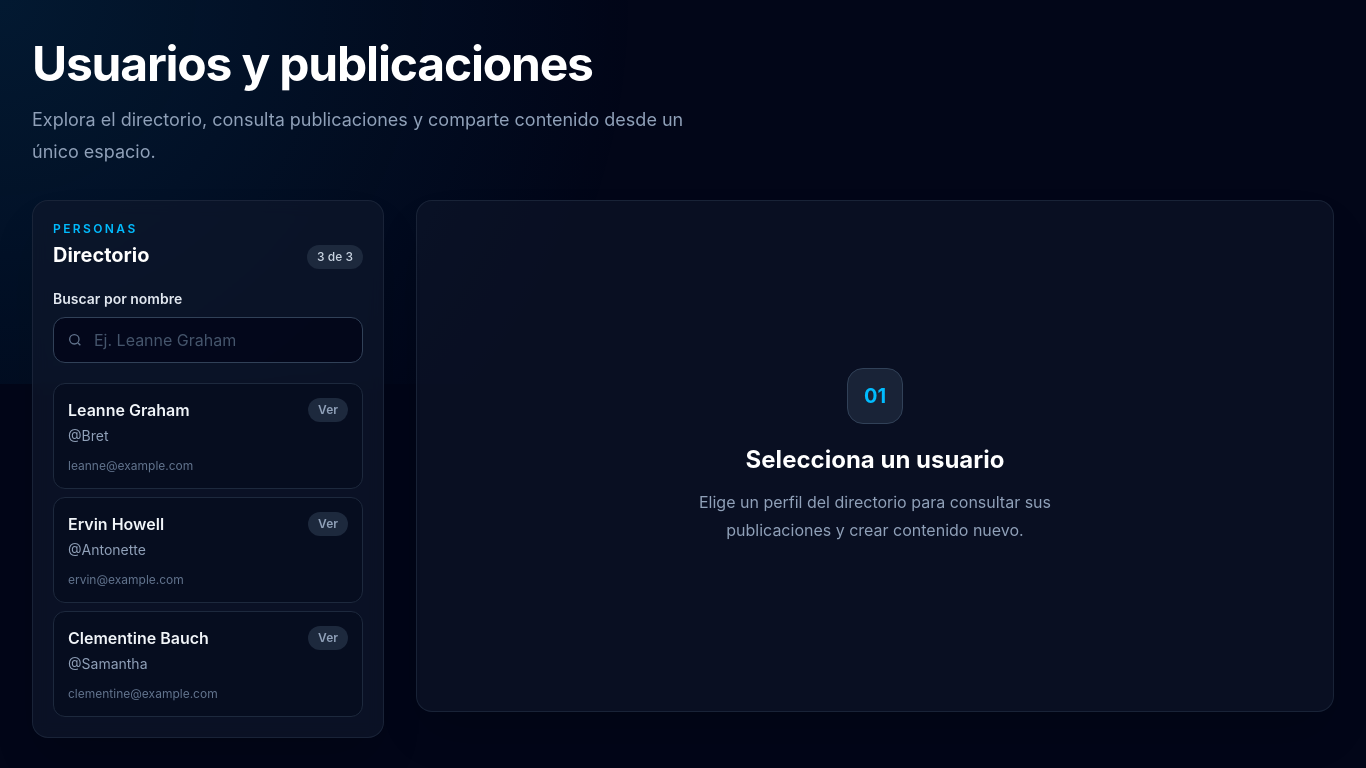
Test case: interacciones de usuarios y publicaciones › añade una publicación creada y limpia el formulario
Click the button "Leanne Graham @Bret Ver": (129,410) [68,398,348,446]
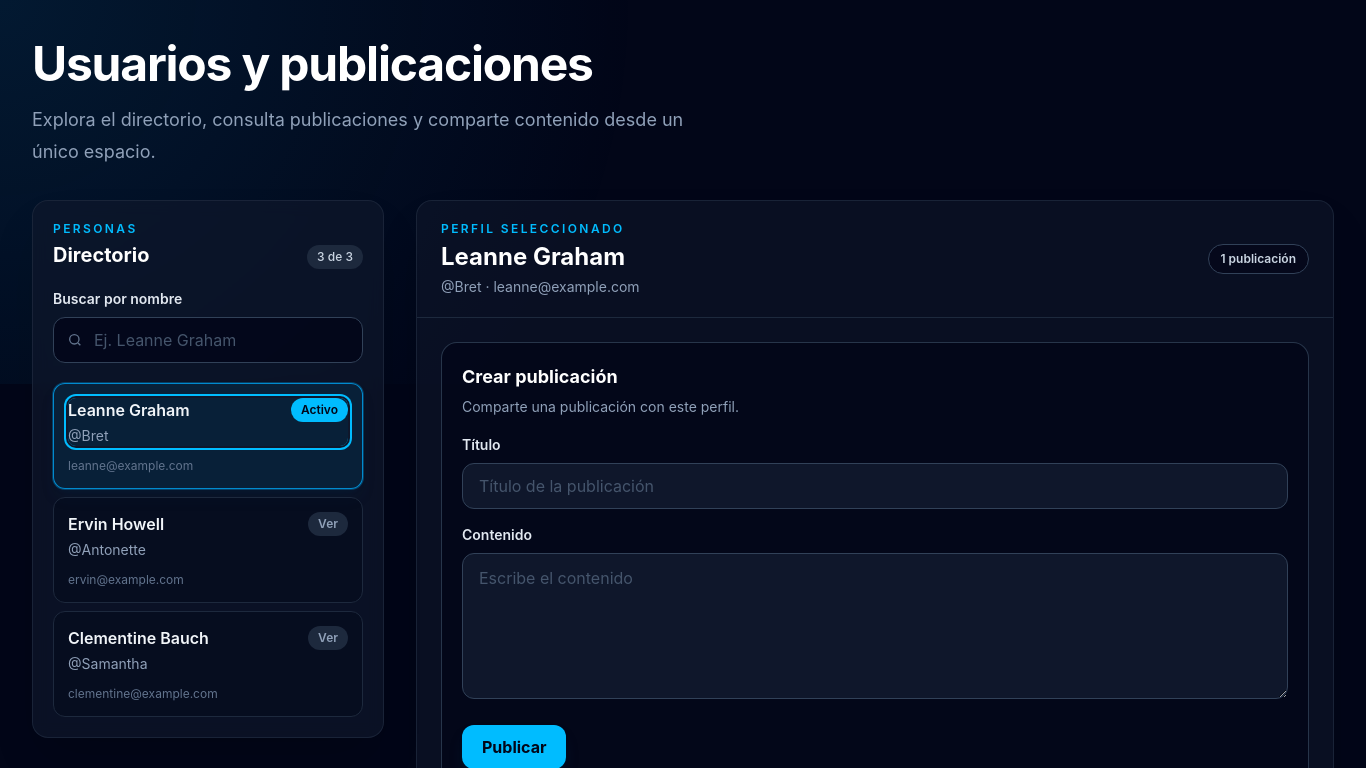
In the field labelled "Título": (875,486) [462,463,1288,509], type "Nueva publicación local"
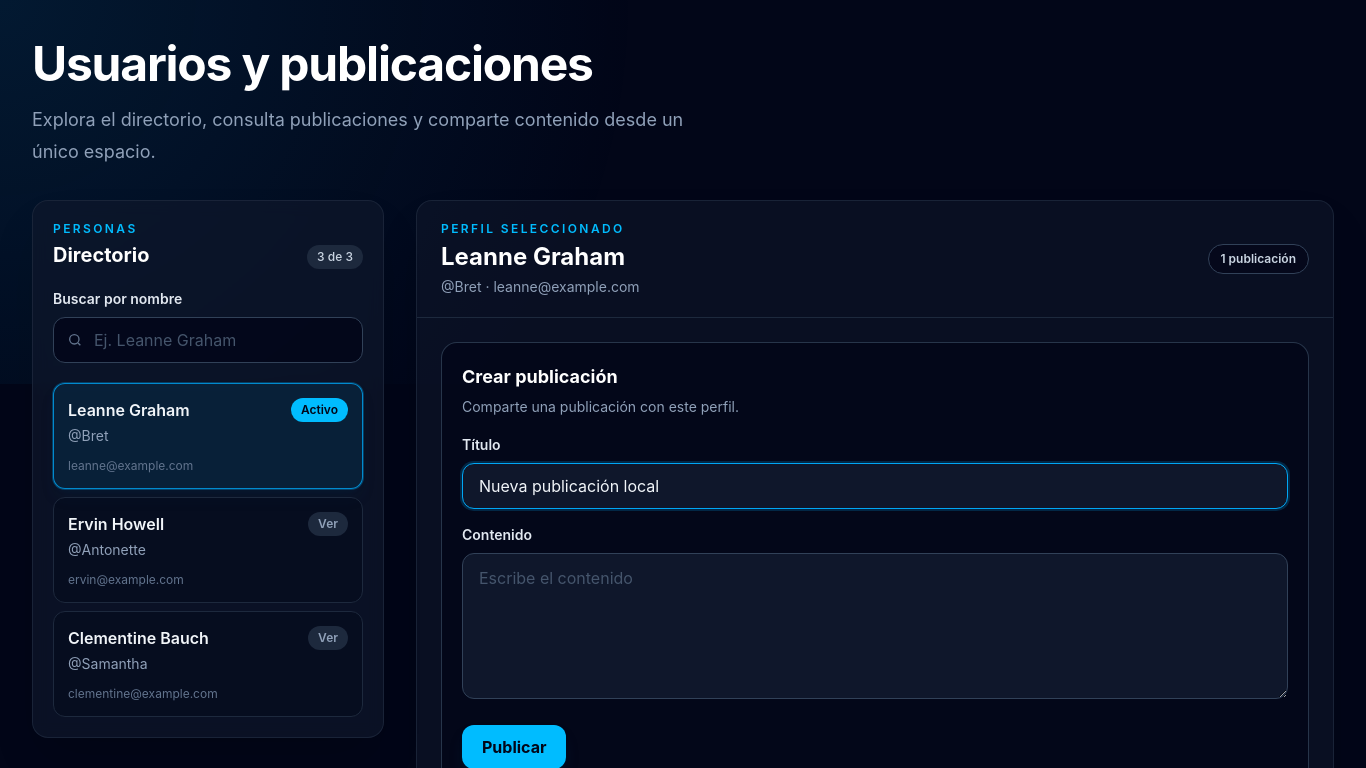
In the text box labelled "Contenido": (875,626) [462,553,1288,699], type "Contenido creado durante la prueba."
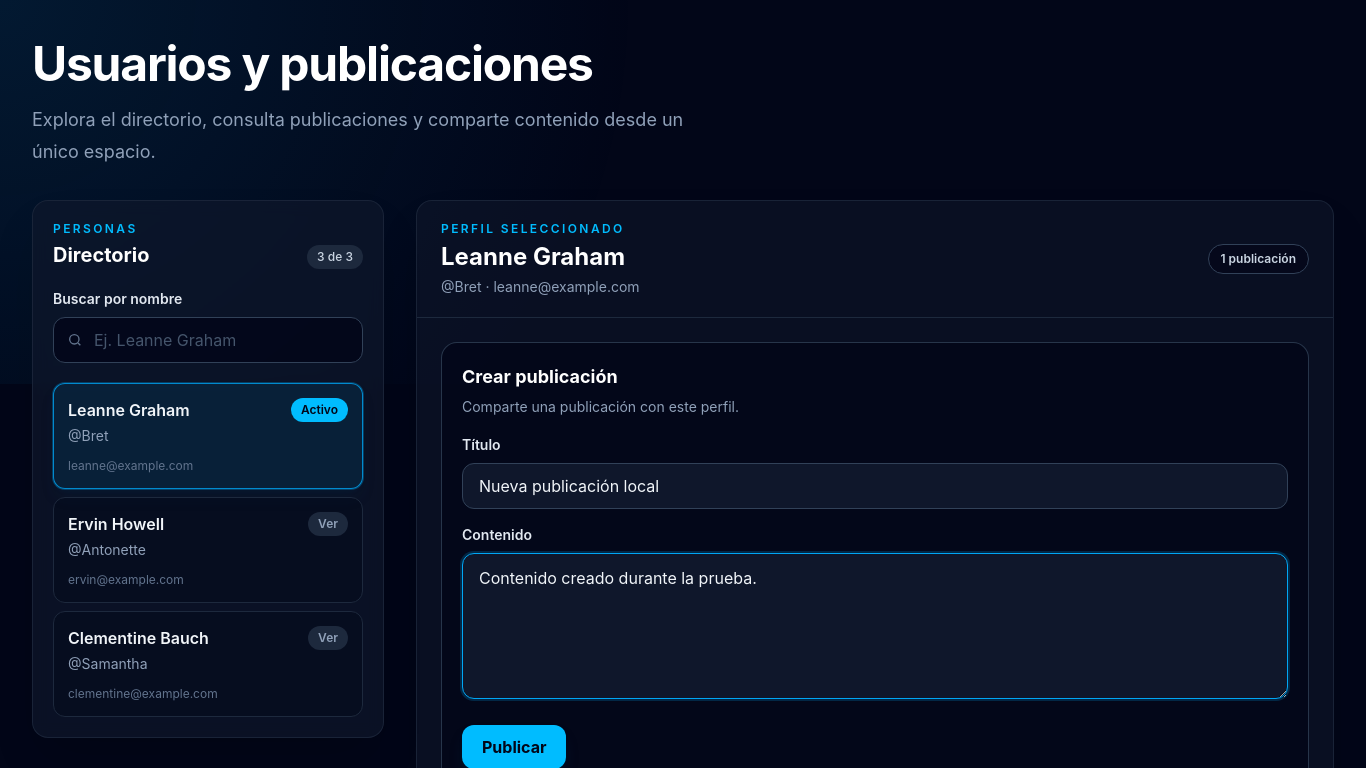
Click the button "Publicar": (514,747) [462,725,566,767]
(page scrolled)
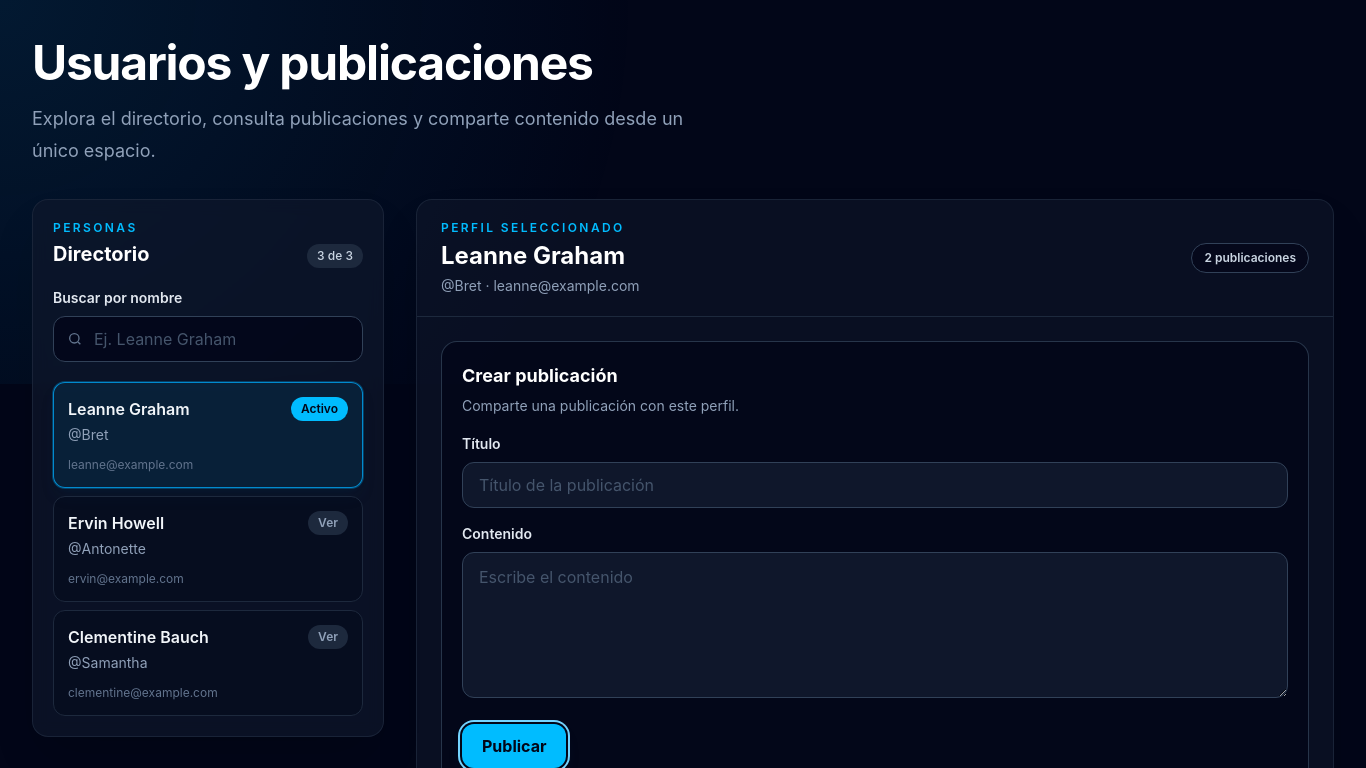
Expected: the field labelled "Título" is empty, [462,462,1288,508]
Expected: the text box labelled "Contenido" is empty, [462,552,1288,698]
